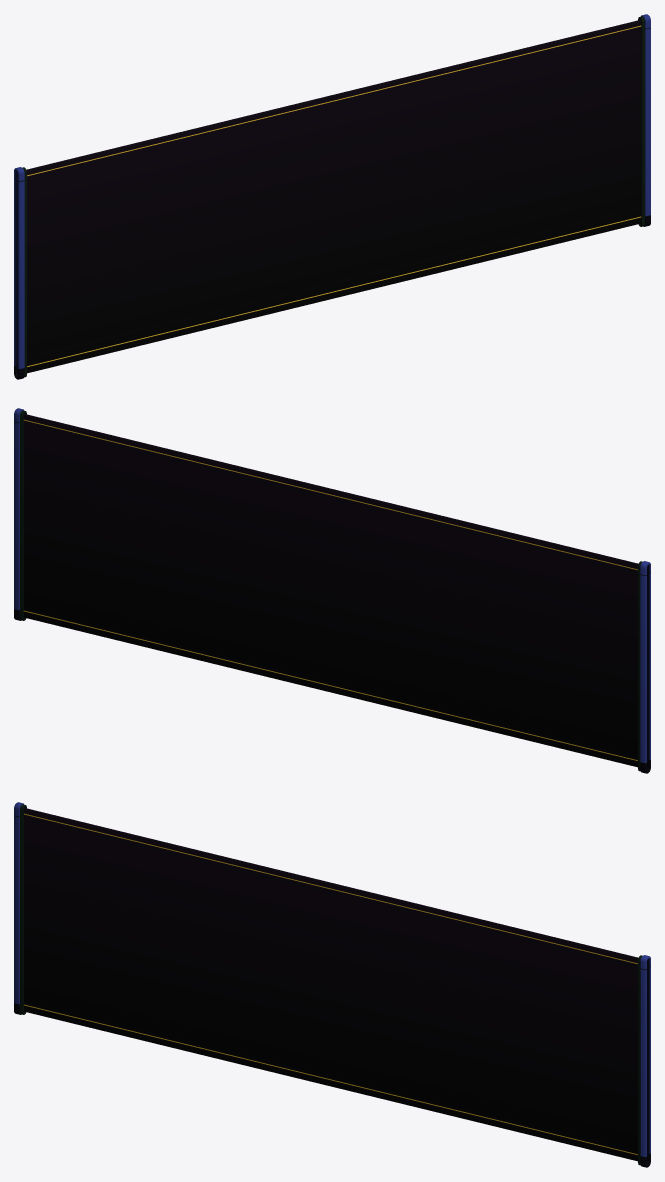
The model's file is W_O_Guardrail_003_L0.fbx.
The picture shows the model from 3 angles, top to bottom: view 1: azimuth 30°, elevation 25°; view 2: azimuth 150°, elevation 25°; view 3: azimuth 330°, elevation 25°; orthographic projection.
Visible parts, largest first — view 1: W_O_Guardrail_003_L0; view 2: W_O_Guardrail_003_L0; view 3: W_O_Guardrail_003_L0.
Part boxes in pixels (bbox=[...]): W_O_Guardrail_003_L0: bbox=[14, 14, 650, 379]; W_O_Guardrail_003_L0: bbox=[14, 408, 650, 773]; W_O_Guardrail_003_L0: bbox=[14, 802, 650, 1167].
Size of the model in its own units: 17 by 5.4 by 0.2431.
